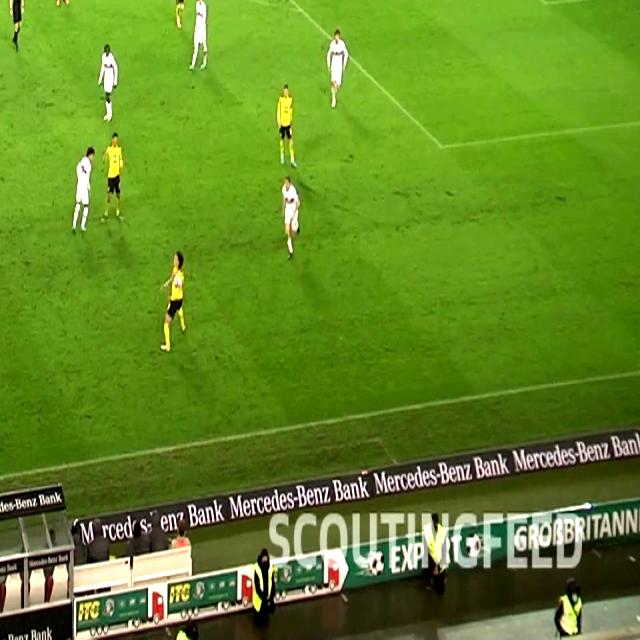referee: (1, 0, 32, 52)
soccer-player: (150, 249, 195, 358), (320, 27, 362, 115), (64, 143, 102, 235), (271, 177, 308, 265), (101, 132, 134, 229), (89, 38, 125, 124), (269, 83, 301, 174), (182, 0, 218, 79), (169, 0, 196, 33), (0, 31, 5, 122), (48, 0, 82, 9)
